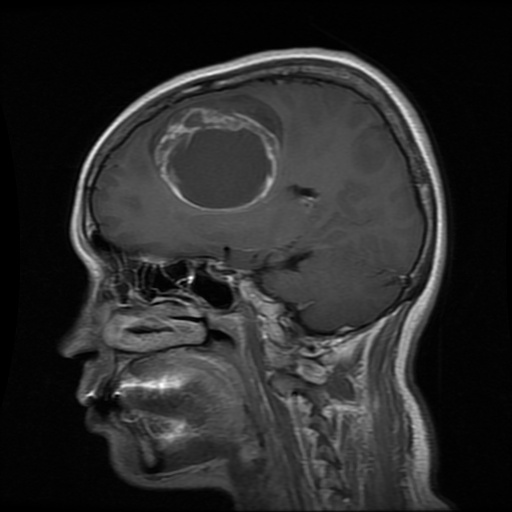glioma: (147, 94, 283, 211)
